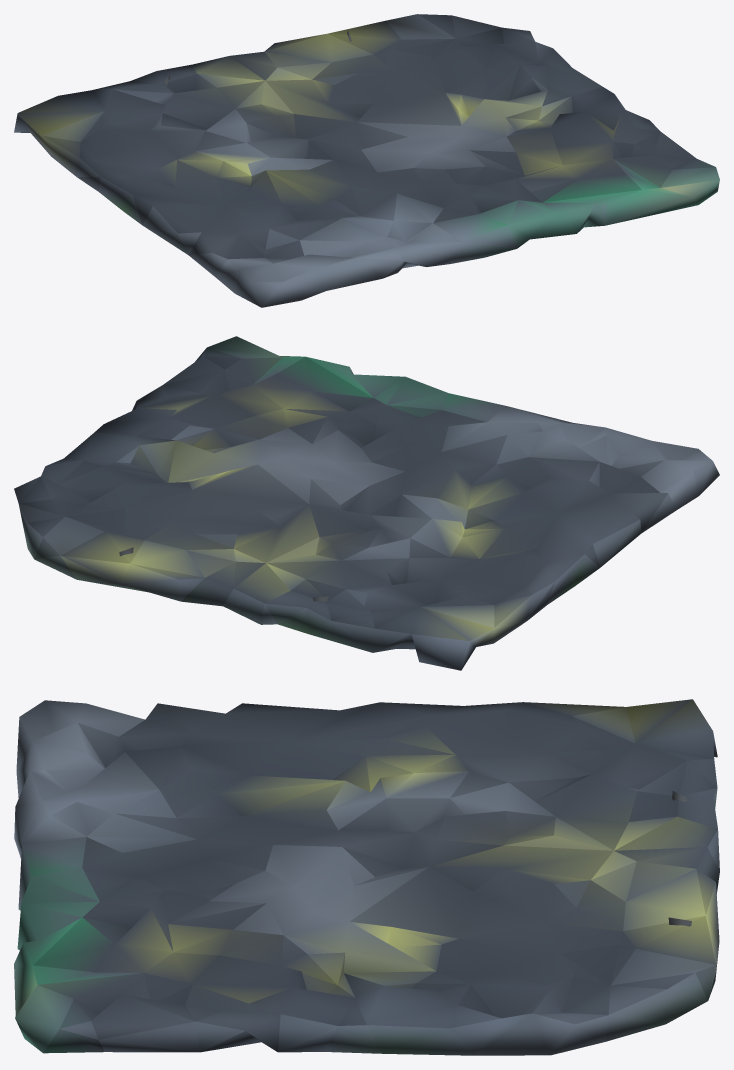
The model's file is grotto_slate_lod2.glb.
3 renders of one model, top to bottom at view 1: azimuth 30°, elevation 25°; view 2: azimuth 150°, elevation 25°; view 3: azimuth 270°, elevation 25°, orthographic. The views are drawn at different scales.
Visible parts, largest first — view 1: grotto_slate.001; view 2: grotto_slate.001; view 3: grotto_slate.001.
Part boxes in pixels (box(x1,y1,x2,y2)): grotto_slate.001: box(14, 14, 719, 307); grotto_slate.001: box(14, 336, 719, 670); grotto_slate.001: box(14, 699, 719, 1055).
Bounding box in the file's own units: 26 × 1.66 × 23.91.
